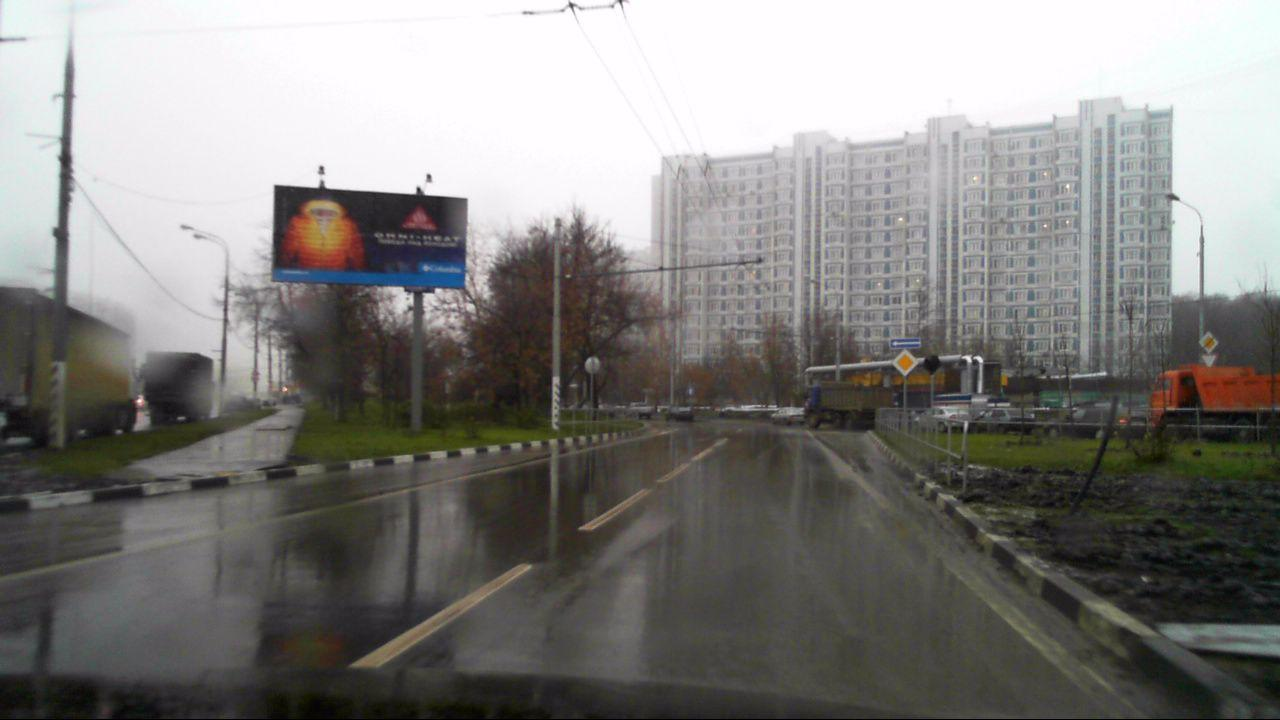2_1: (891, 350, 918, 375)
2_2: (1197, 331, 1219, 353)
2_4: (1198, 354, 1219, 368)
5_7_2: (890, 337, 920, 348)
